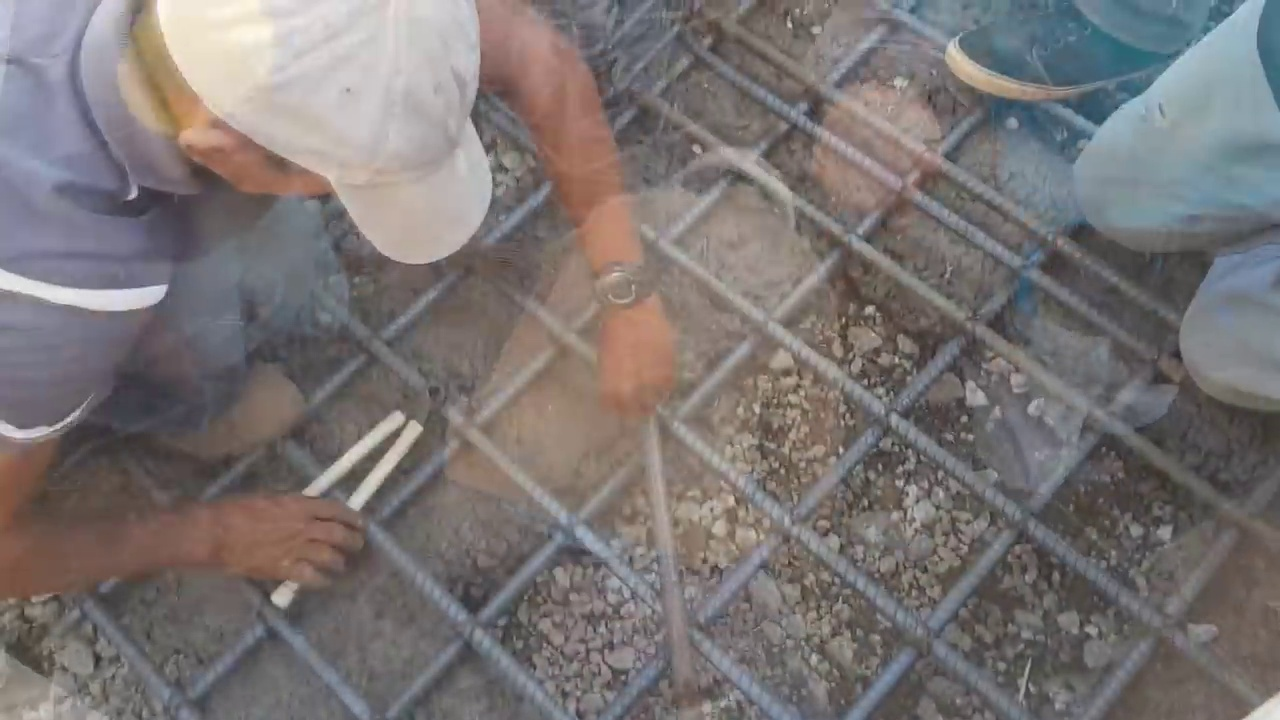helmet-off: (118, 2, 493, 270)
person: (0, 2, 674, 602)
